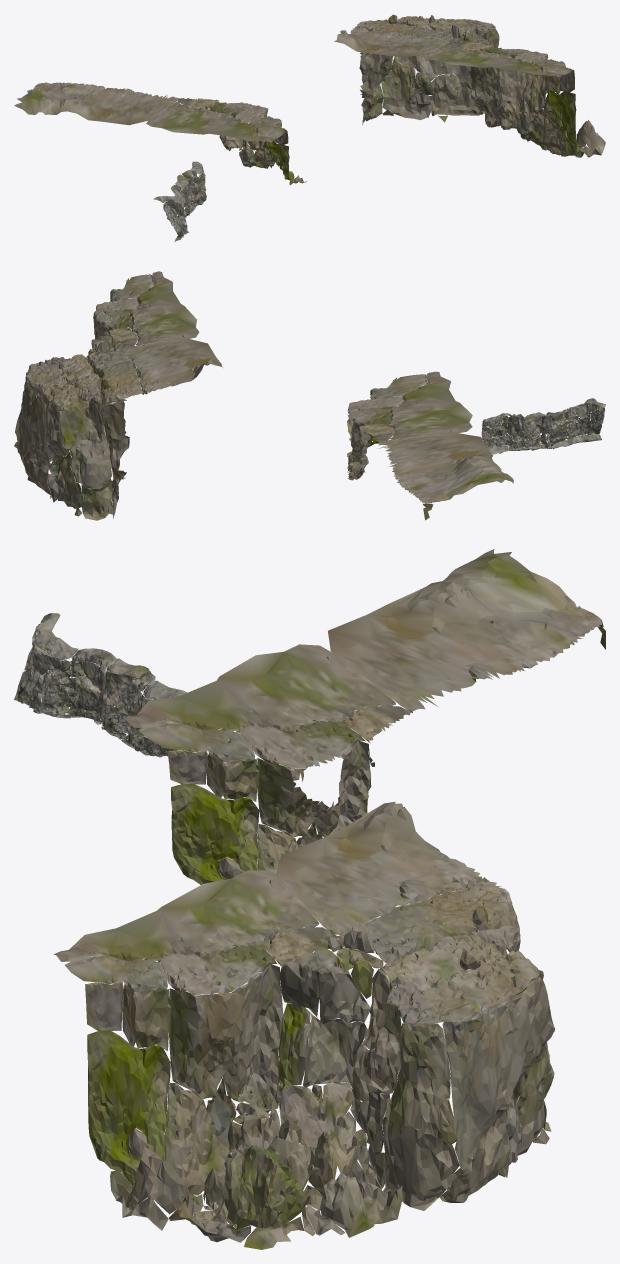
File: ENV026_authored_gorge.glb
The picture shows the model from 3 angles, top to bottom: view 1: azimuth 30°, elevation 25°; view 2: azimuth 150°, elevation 25°; view 3: azimuth 270°, elevation 25°; orthographic projection. The views are drawn at different scales.
Parts seen in each view (by area): view 1: ENV026_composite_genuine_CC0_rock; view 2: ENV026_composite_genuine_CC0_rock; view 3: ENV026_composite_genuine_CC0_rock.
Part boxes in pixels (x1,y1,x2,y2): ENV026_composite_genuine_CC0_rock: (14,14,605,241); ENV026_composite_genuine_CC0_rock: (14,271,605,520); ENV026_composite_genuine_CC0_rock: (14,549,605,1249).
Size of the model in its own units: 55.49 by 14.21 by 28.6.
